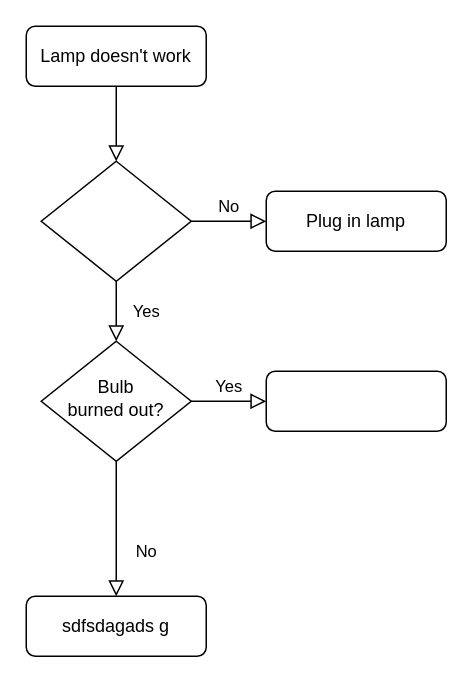
Some shapes in this 473 by 683 pixel diagram are drawn without their labels. The shapes that lost their labels are listed below. From the top down, each one's centre as x and y in pixels, then its label:
At (x=115, y=220): "Lamp plugged in?".
At (x=355, y=400): "Replace Bulb".
